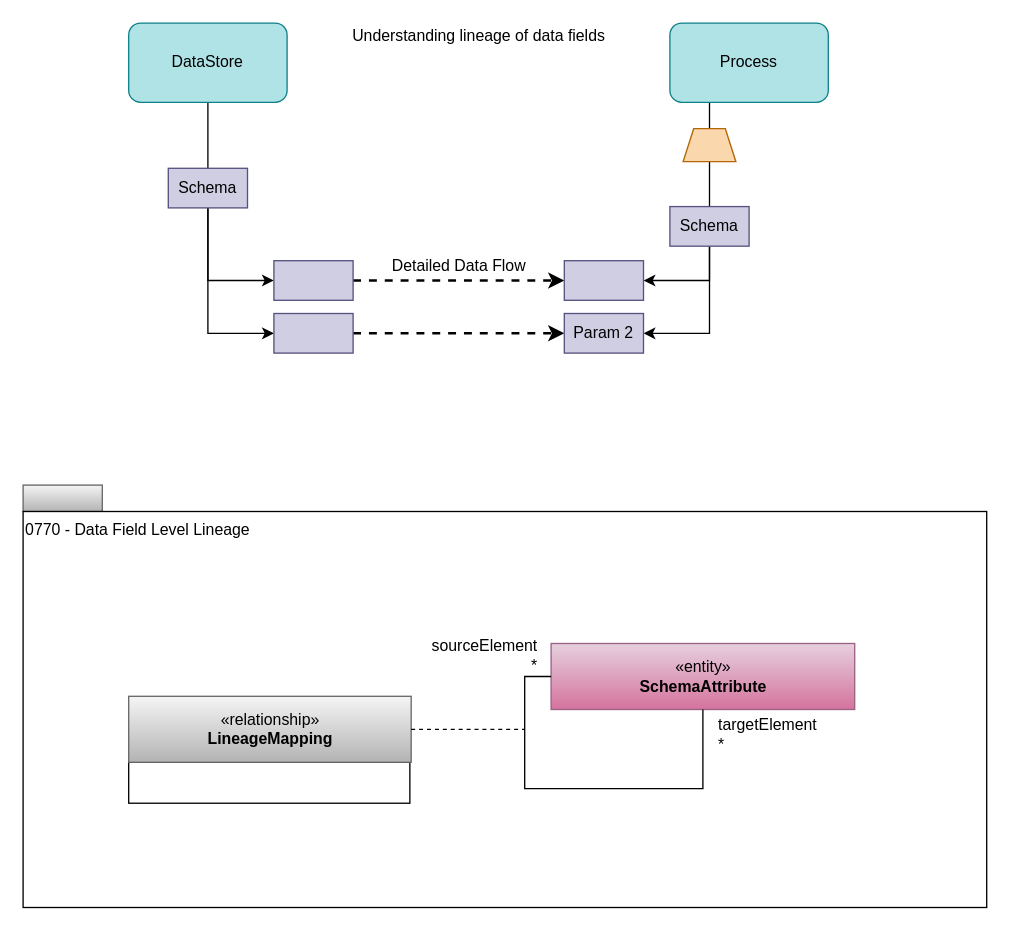
Image size: 1010x931. Some labels were removed from this diagram. Each missing label, with the centre of its shape:
"Col 1" goes at (x=313, y=279).
"Col 2" goes at (x=313, y=332).
"Param 1" goes at (x=603, y=279).
"Port" goes at (x=709, y=144).
